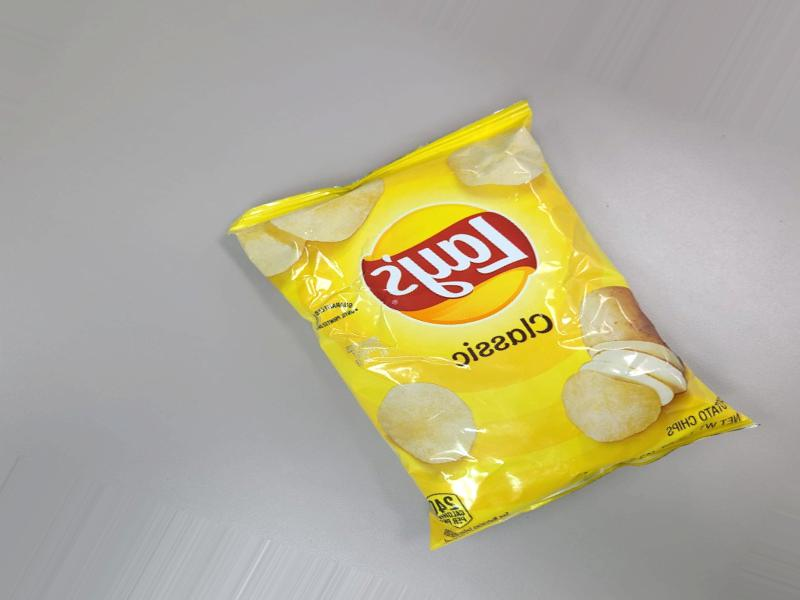lays: (339, 74, 721, 600)
